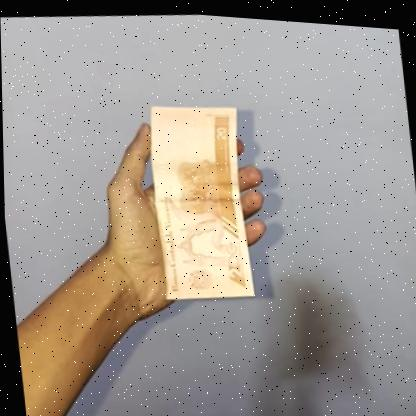twenty-back-vef: (143, 95, 258, 304)
